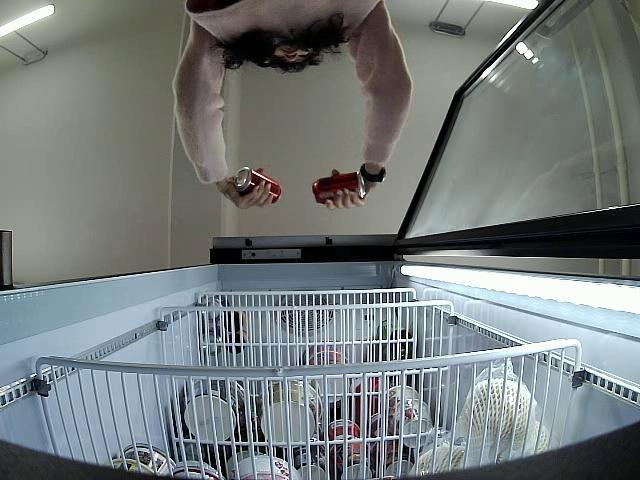11_cocaColaZero: (232, 167, 282, 204), (312, 173, 366, 202)
